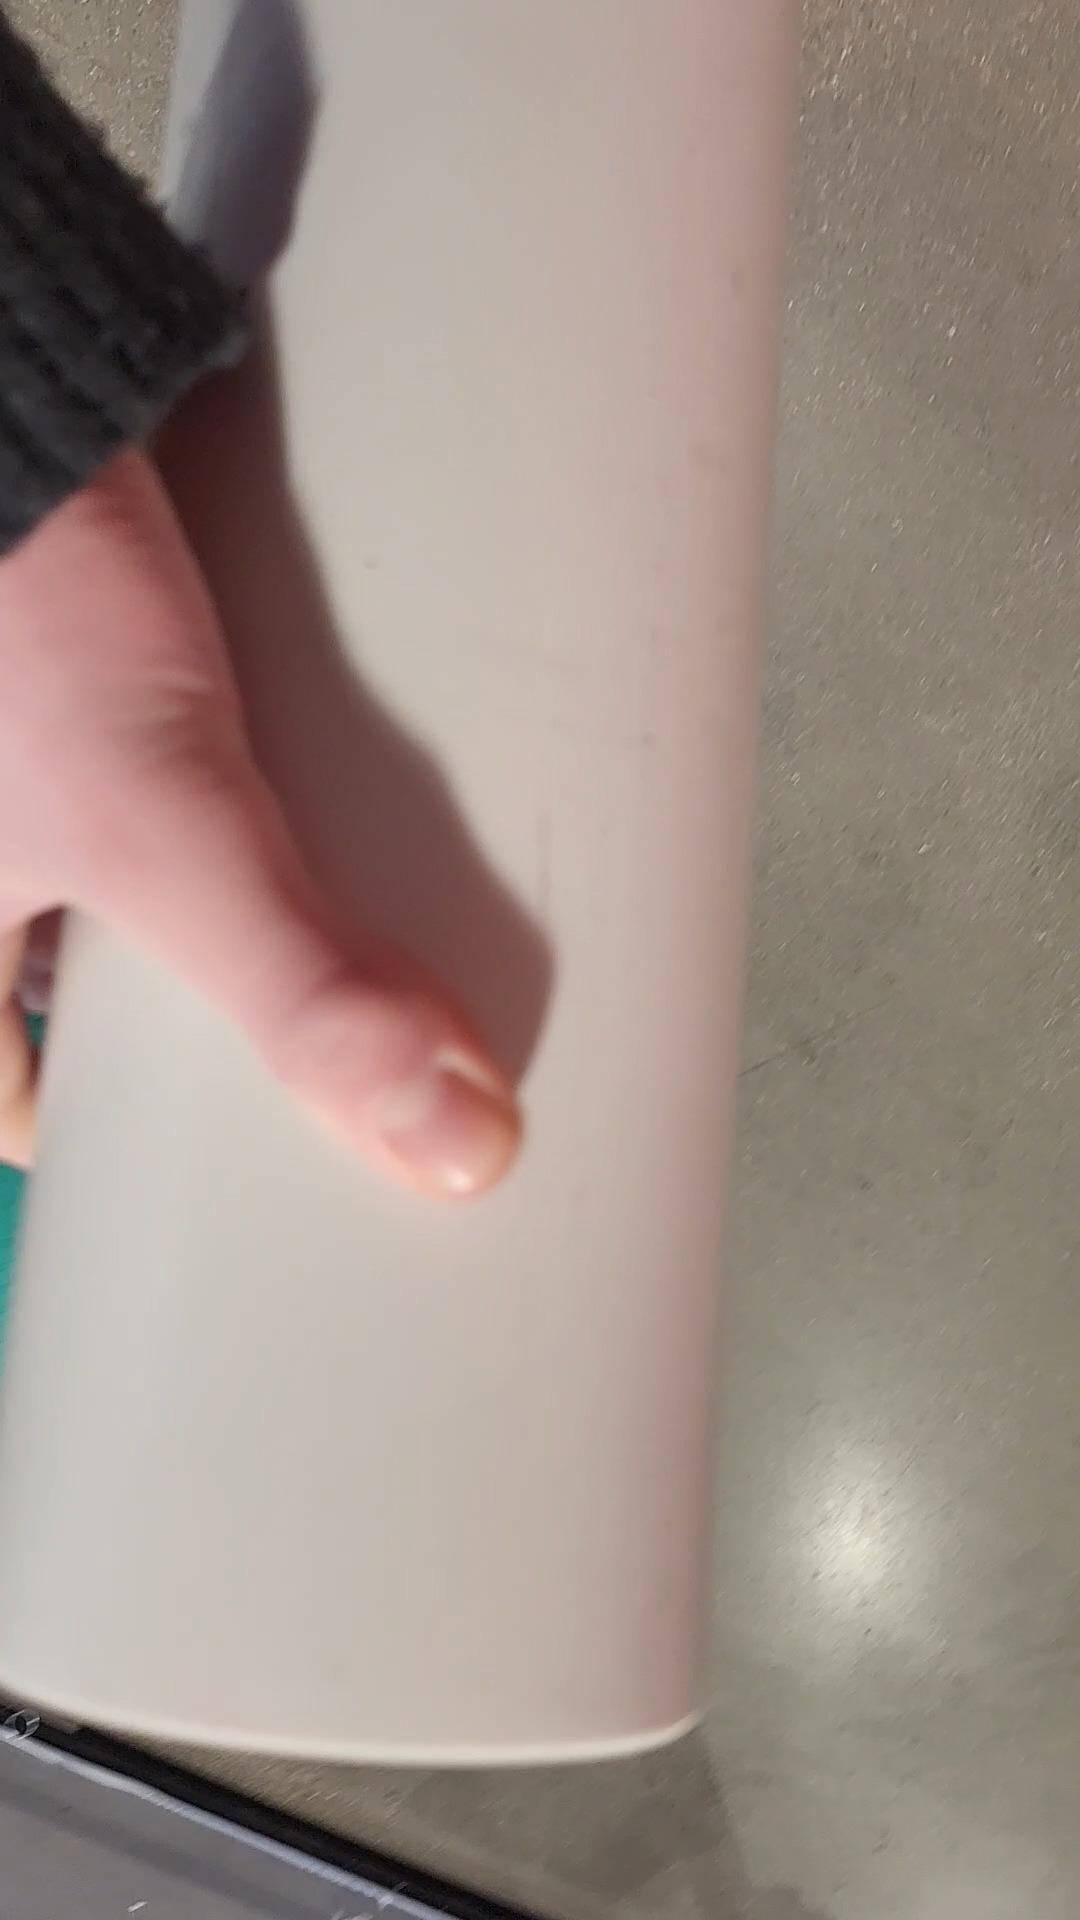algae: (0, 996, 75, 1340)
coral: (0, 0, 795, 1764)
